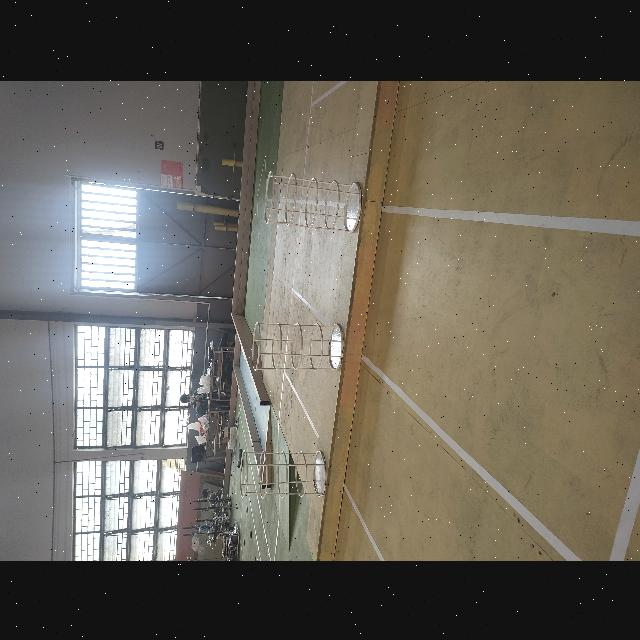S: (263, 170, 362, 233), (250, 320, 345, 371), (239, 448, 328, 497)
